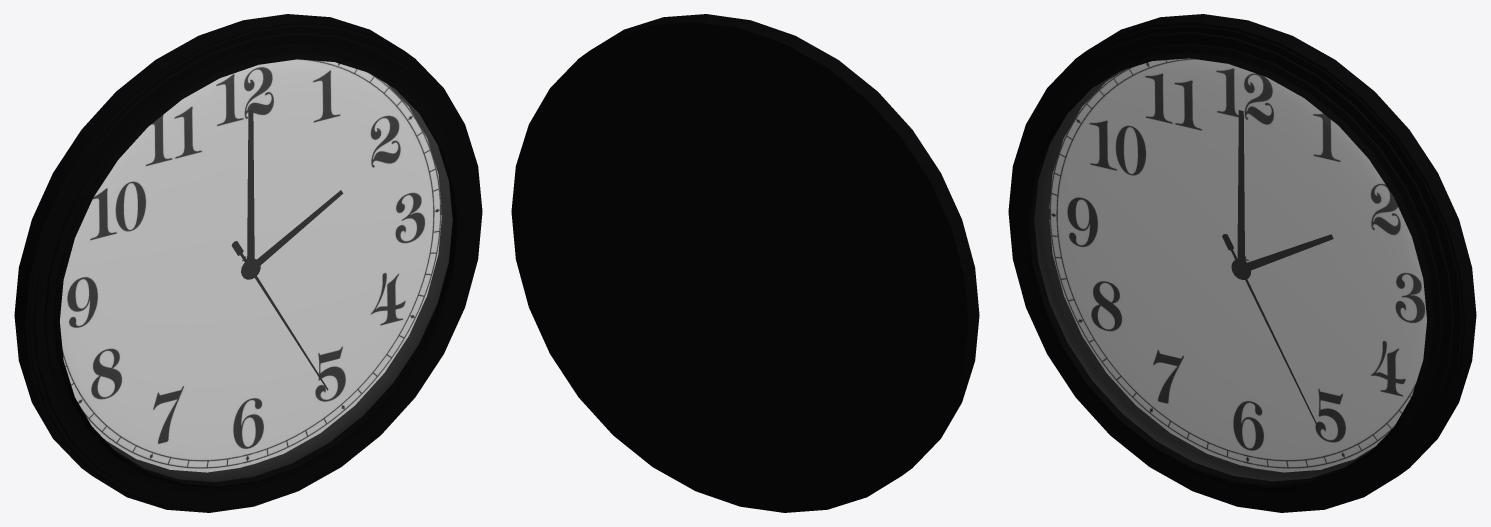
File: clock.glb
3 renders of one model, left to right at view 1: azimuth 30°, elevation 25°; view 2: azimuth 150°, elevation 25°; view 3: azimuth 330°, elevation 25°, orthographic.
Visible parts, largest first — view 1: clock_glass, clock_face, clock_frame, clock_big_hand, clock_small_hand, clock_second_hand; view 2: clock_frame; view 3: clock_glass, clock_face, clock_frame, clock_big_hand, clock_small_hand, clock_second_hand.
Boxes of the visible parts, x1,y1,x2,y2 form: clock_glass: (60, 59, 452, 481); clock_face: (60, 59, 442, 472); clock_frame: (14, 14, 482, 512); clock_big_hand: (241, 110, 260, 279); clock_small_hand: (241, 190, 343, 279); clock_second_hand: (231, 241, 328, 390); clock_frame: (511, 14, 979, 512); clock_glass: (1034, 58, 1426, 480); clock_face: (1048, 58, 1426, 472); clock_frame: (1008, 14, 1476, 512); clock_big_hand: (1231, 110, 1250, 279); clock_small_hand: (1231, 234, 1333, 279); clock_second_hand: (1222, 234, 1318, 427).
Bounding box in the file's own units: 0.6937 × 0.6937 × 0.0557.
4 materials, 1 textured.
